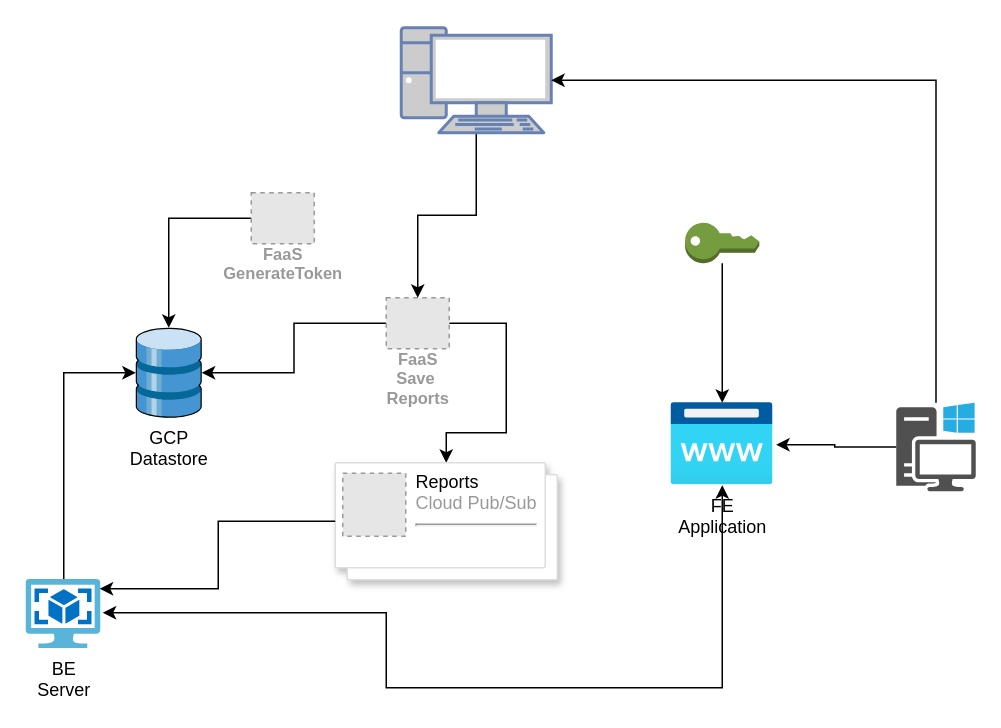
Image size: 1001x728. Some labels were removed from this diagram. Grey dashed boxes stand in for pictures. Here are the shapes that lost their labels. From the top down, the centre of each, then its label:
point (475, 80): Local Python Project
point (721, 242): GCP OAuth
point (935, 446): User
